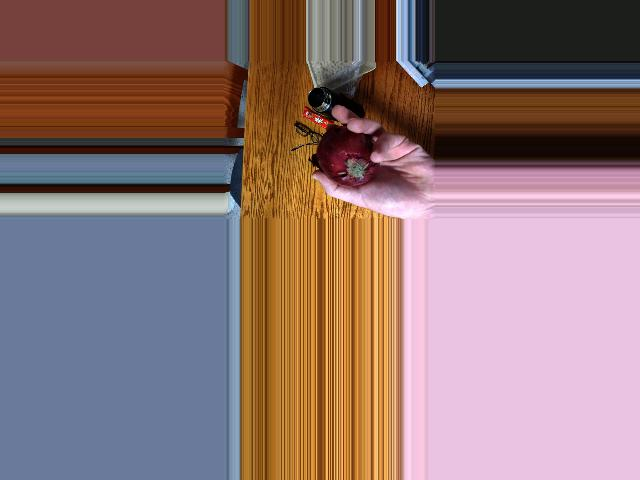onion: (322, 131, 378, 186)
